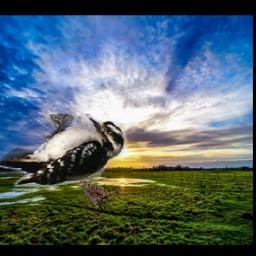Sparrow: (76, 178, 115, 210)
Woodpecker: (0, 115, 132, 191)
